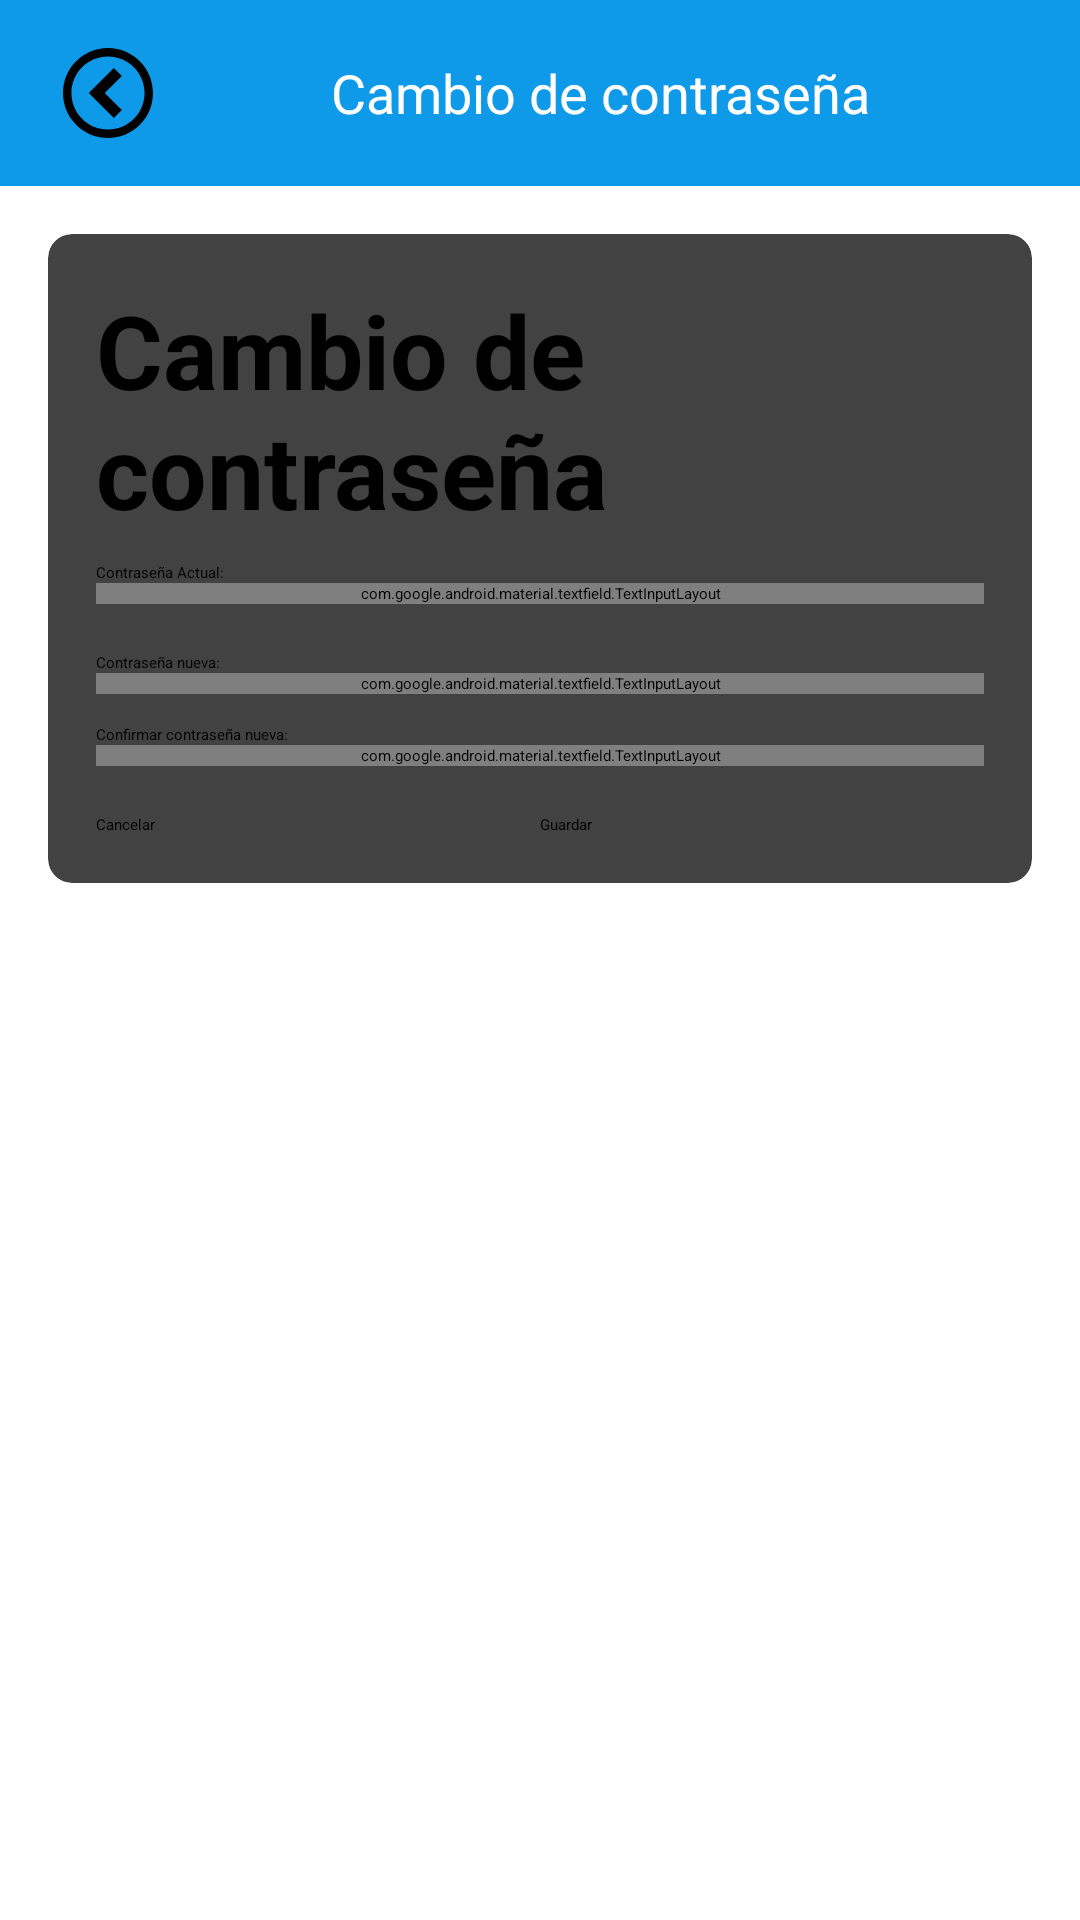

Icons on this 1080 × 1920 Android screen, each with the point to tap as (x=x, y=y):
arrow left: (x=108, y=93)
